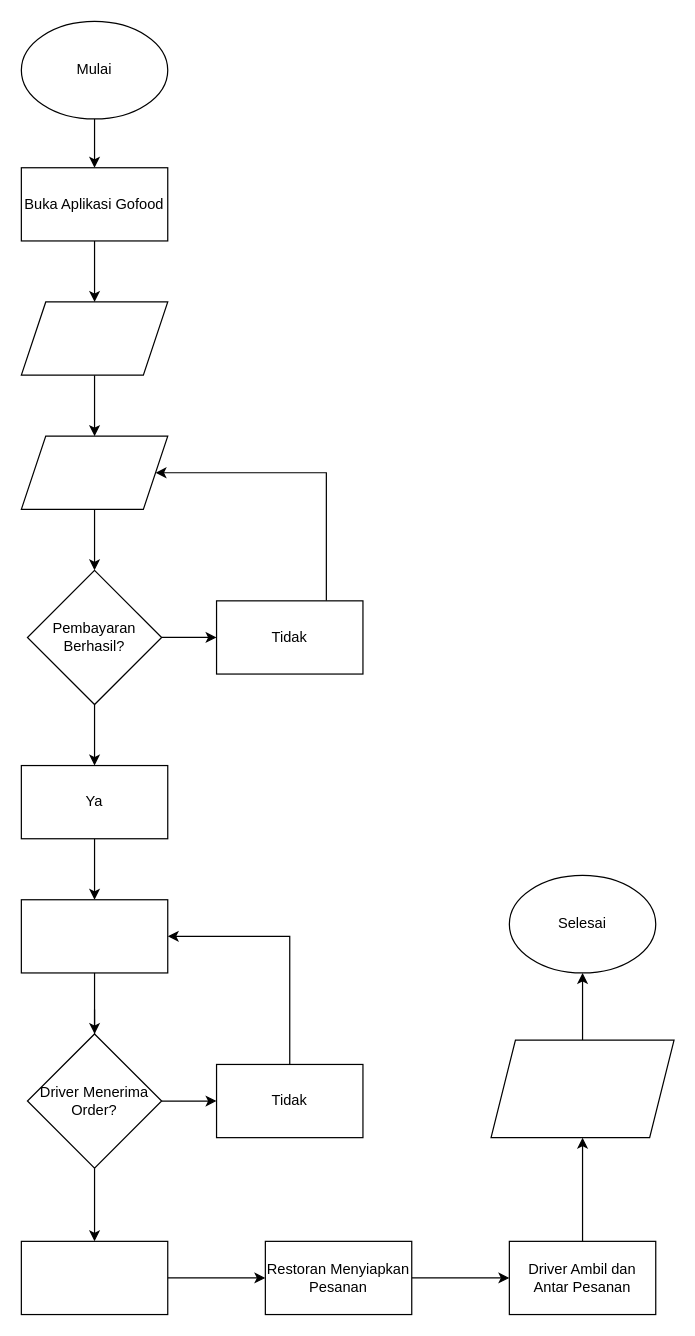
The diagram is 695 pixels wide and 1336 high, and some of its shapes have lost their labels. Each missing label, with the centre of its shape:
"Iya" goes at pixel 94 1277.
"Lakukan Pembayaran" goes at pixel 94 472.
"Pelanggan Menerima Pesanan" goes at pixel 582 1088.
"Pilih Restoran & Menu" goes at pixel 94 338.
"Sistem Mencari Driver Terdekat" goes at pixel 94 936.
